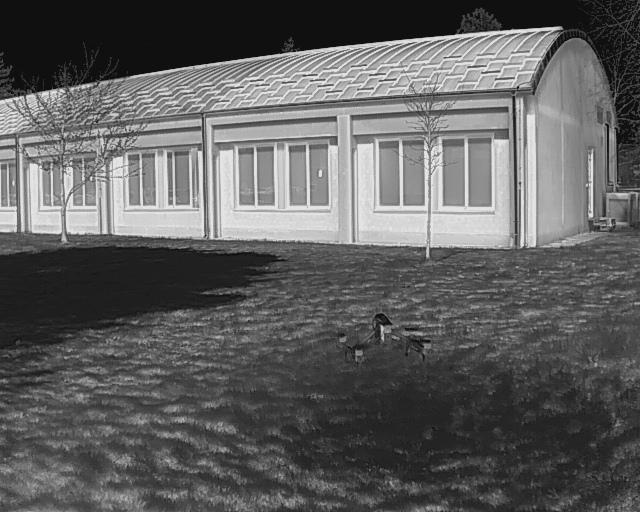drone: (320, 300, 435, 379)
